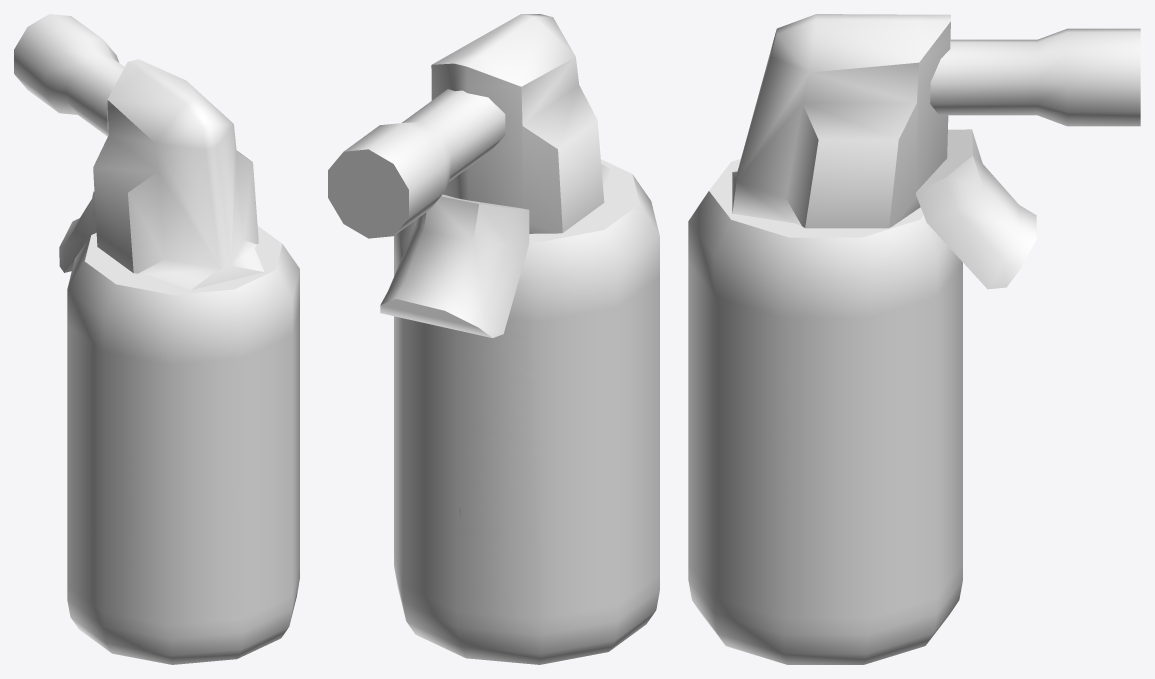
File: Blowtorch.fbx
The picture shows the model from 3 angles, left to right: view 1: azimuth 30°, elevation 25°; view 2: azimuth 150°, elevation 25°; view 3: azimuth 270°, elevation 25°; orthographic projection. The views are drawn at different scales.
Parts seen in each view (by area): view 1: Blowtorch; view 2: Blowtorch; view 3: Blowtorch.
Part boxes in pixels (box(x1,y1,x2,y2)): Blowtorch: box(14, 14, 299, 664); Blowtorch: box(328, 14, 659, 664); Blowtorch: box(688, 14, 1140, 664).
Size of the model in its own units: 12.22 by 31.25 by 21.15.
Materials: 1 (1 with a texture image).
